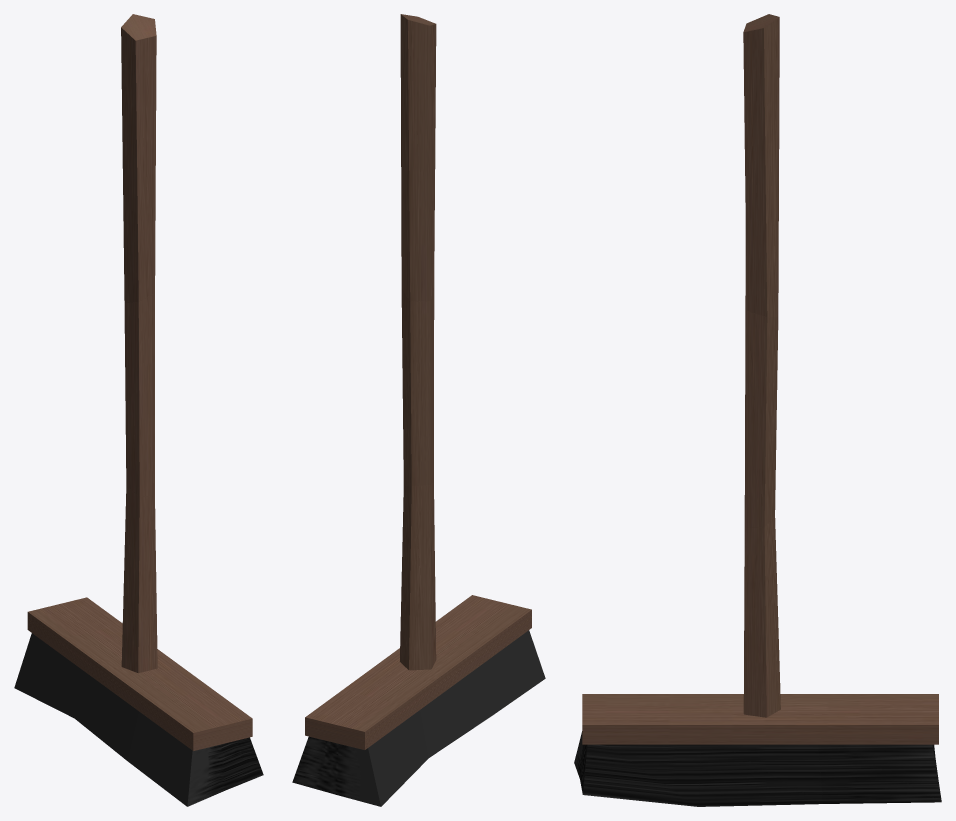
The model's file is broom.fbx.
The picture shows the model from 3 angles, left to right: view 1: azimuth 30°, elevation 25°; view 2: azimuth 150°, elevation 25°; view 3: azimuth 270°, elevation 25°; orthographic projection. The views are drawn at different scales.
Visible parts, largest first — view 1: Cylinder_Material.002_0, Cylinder_Material.001_0; view 2: Cylinder_Material.002_0, Cylinder_Material.001_0; view 3: Cylinder_Material.002_0, Cylinder_Material.001_0.
Boxes of the visible parts, <box> form: Cylinder_Material.002_0: <box>27,14,252,750</box>; Cylinder_Material.001_0: <box>14,633,263,806</box>; Cylinder_Material.002_0: <box>305,14,531,749</box>; Cylinder_Material.001_0: <box>292,630,545,806</box>; Cylinder_Material.002_0: <box>582,14,938,744</box>; Cylinder_Material.001_0: <box>574,731,941,806</box>.
Size of the model in its own units: 111 by 836 by 361.
